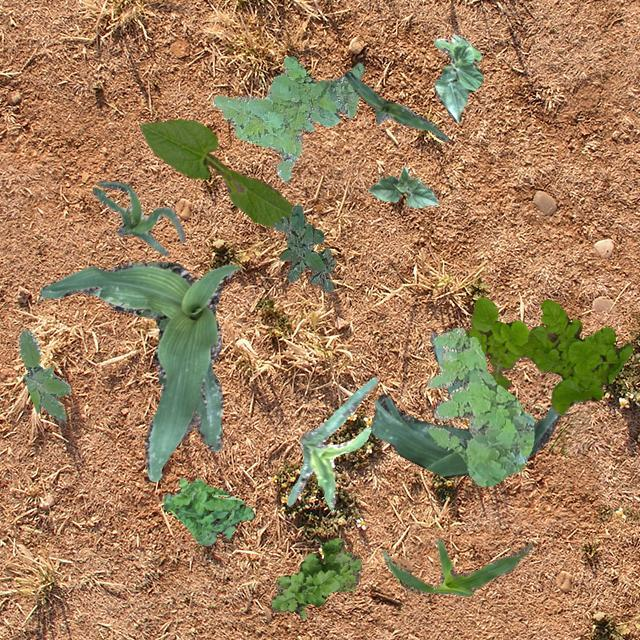crop: (38, 260, 238, 480), (370, 332, 560, 478), (138, 118, 292, 226), (286, 377, 376, 508), (382, 538, 532, 596), (343, 70, 448, 140), (92, 180, 184, 254), (432, 34, 482, 120), (368, 166, 438, 207)
weed: (463, 296, 632, 414), (212, 56, 364, 180), (427, 326, 532, 486), (270, 536, 360, 618), (162, 476, 254, 544), (272, 202, 336, 292), (17, 329, 70, 422)
